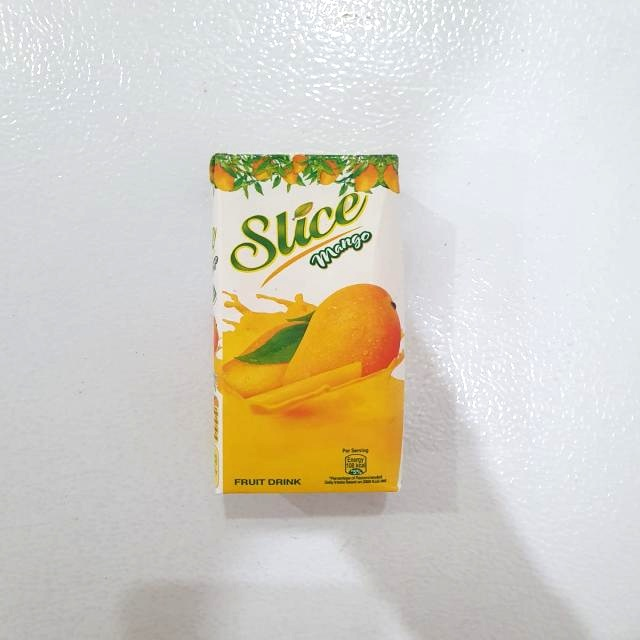slice-200ml: (220, 158, 393, 489)
